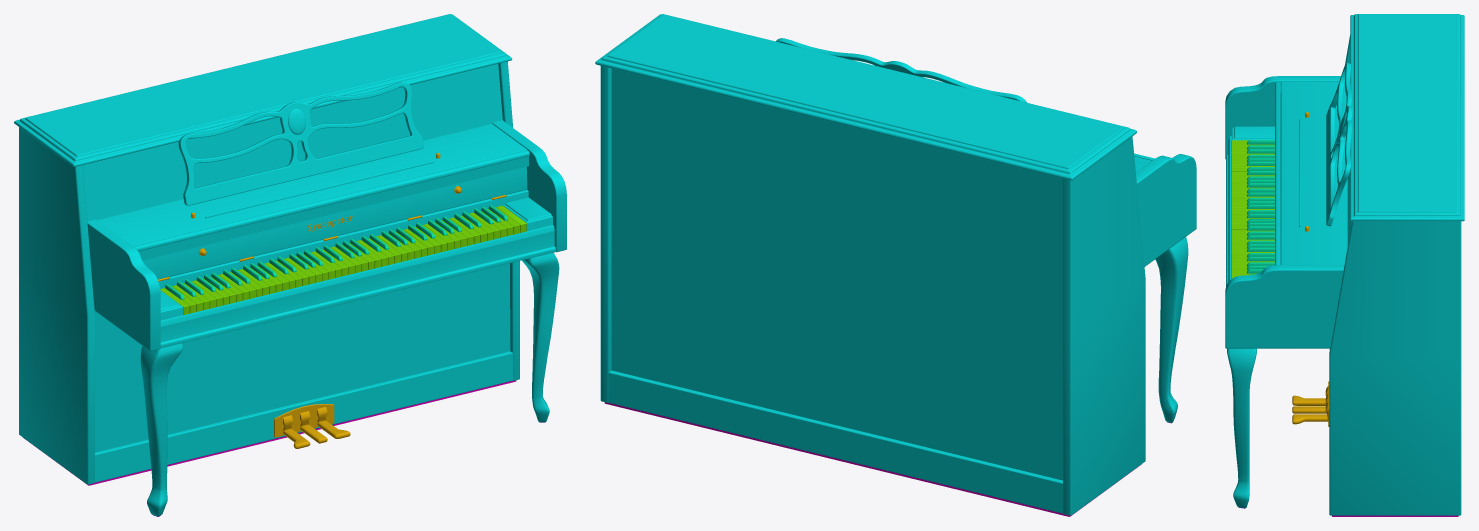
The picture shows the model from 3 angles, left to right: view 1: azimuth 30°, elevation 25°; view 2: azimuth 150°, elevation 25°; view 3: azimuth 270°, elevation 25°; orthographic projection. The views are drawn at different scales.
Parts seen in each view (by area): view 1: #INT0001_Upright_Piano; view 2: #INT0001_Upright_Piano; view 3: #INT0001_Upright_Piano.
Boxes of the visible parts, left/top/right/bottom form: #INT0001_Upright_Piano: left=14, top=14, right=566, bottom=516; #INT0001_Upright_Piano: left=595, top=14, right=1196, bottom=516; #INT0001_Upright_Piano: left=1225, top=14, right=1464, bottom=516.
Bounding box in the file's own units: 1.58 × 1.12 × 0.7849.
